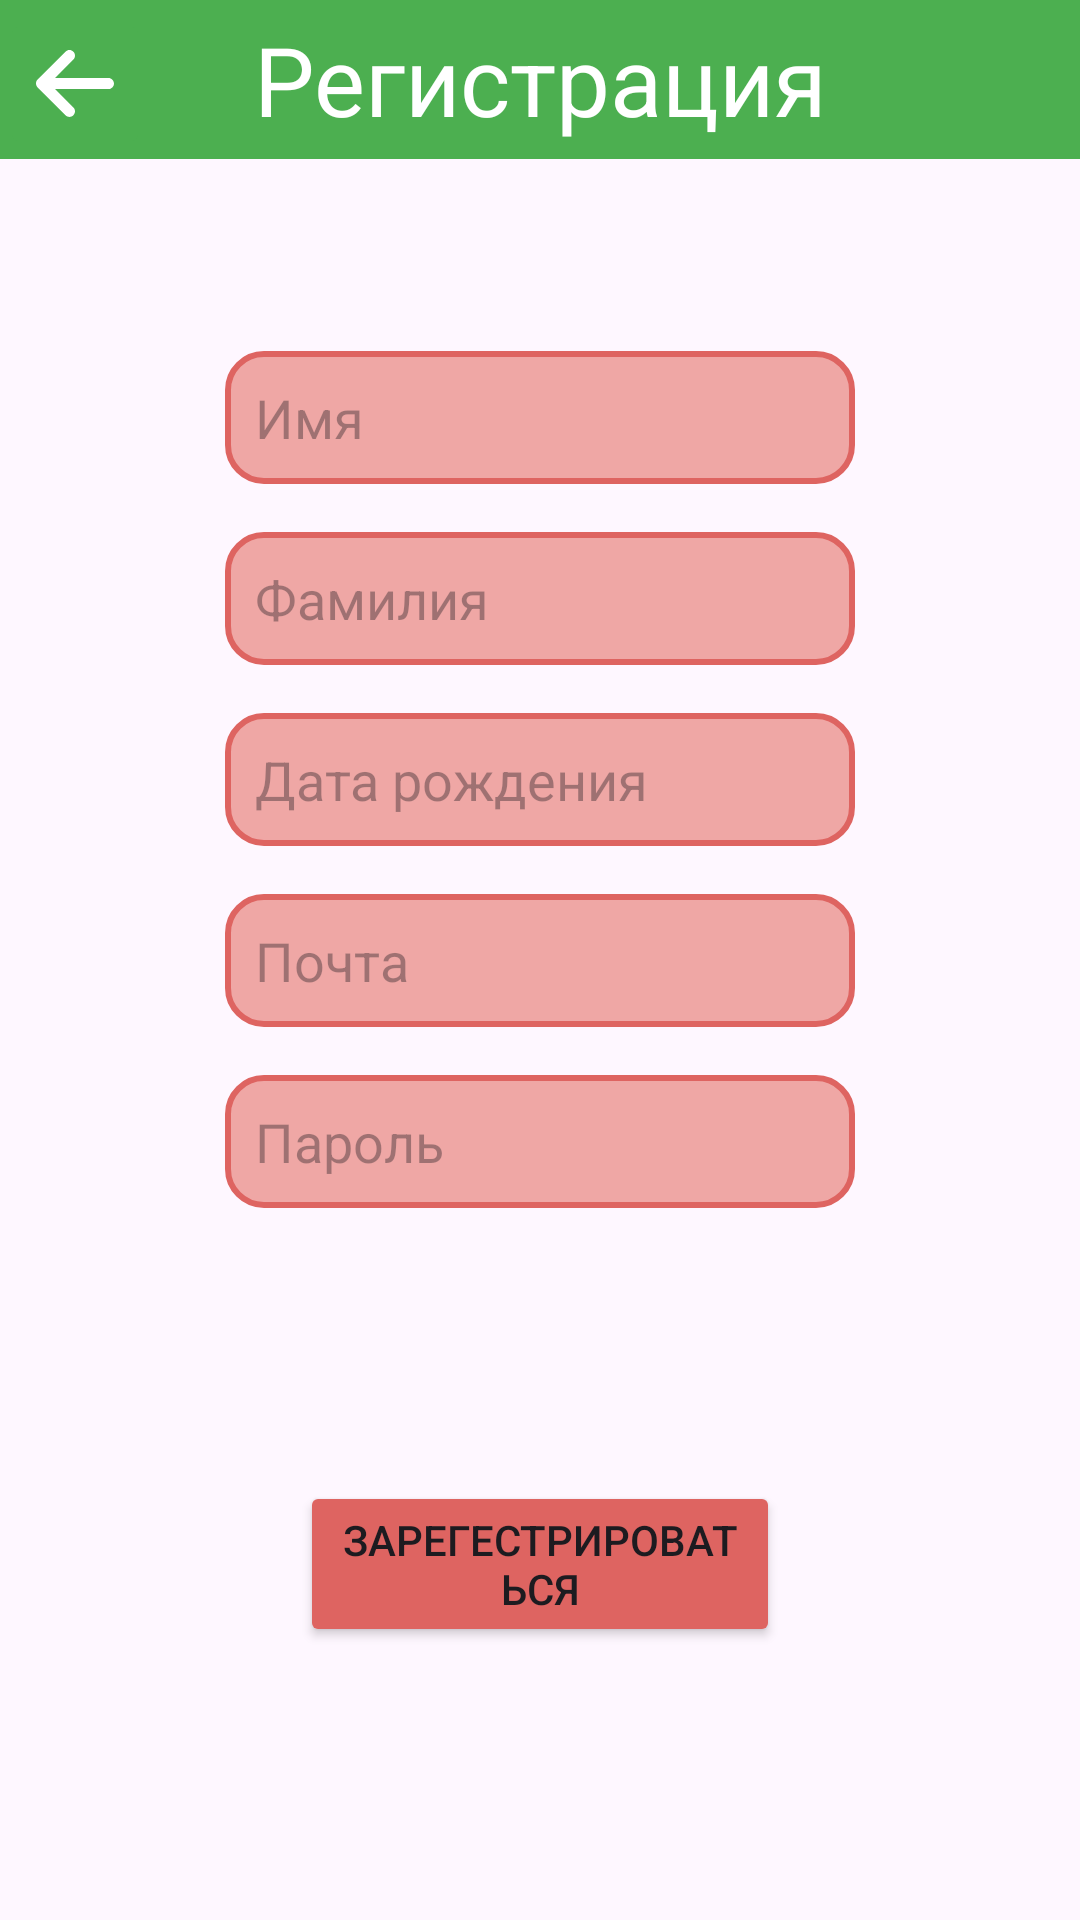

Named icons in this screenshot (1080px×1920px) and their bounding boxes, (x1, y1, x2, y2):
arrow left: (36, 50, 114, 117)
